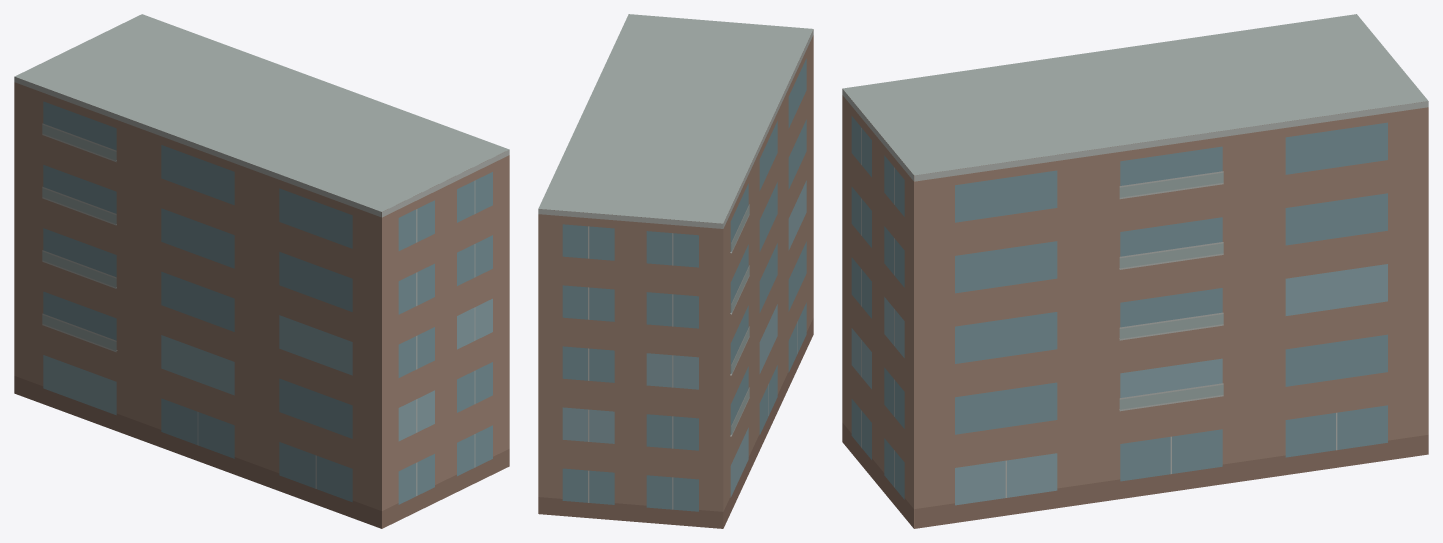
File: survey-upis-33009558.glb
3 renders of one model, left to right at view 1: azimuth 30°, elevation 25°; view 2: azimuth 150°, elevation 25°; view 3: azimuth 270°, elevation 25°, orthographic. The views are drawn at different scales.
Parts seen in each view (by area): view 1: survey-upis-33009558.tmp; view 2: survey-upis-33009558.tmp; view 3: survey-upis-33009558.tmp.
Boxes of the visible parts, x1=… form: survey-upis-33009558.tmp: x1=14, y1=14, x2=509, y2=528; survey-upis-33009558.tmp: x1=538, y1=14, x2=813, y2=528; survey-upis-33009558.tmp: x1=842, y1=14, x2=1428, y2=528.
Bounding box in the file's own units: 13.63 × 13.9 × 20.91.
